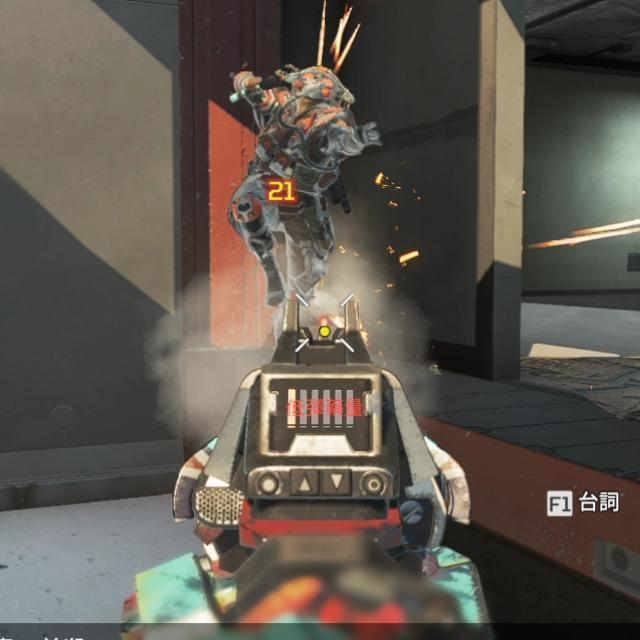avatar: (224, 61, 359, 309)
